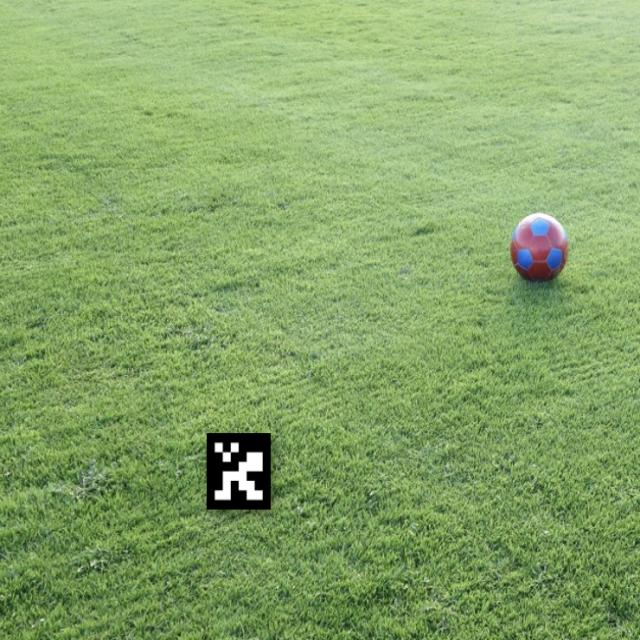marker: (195, 421, 286, 522)
